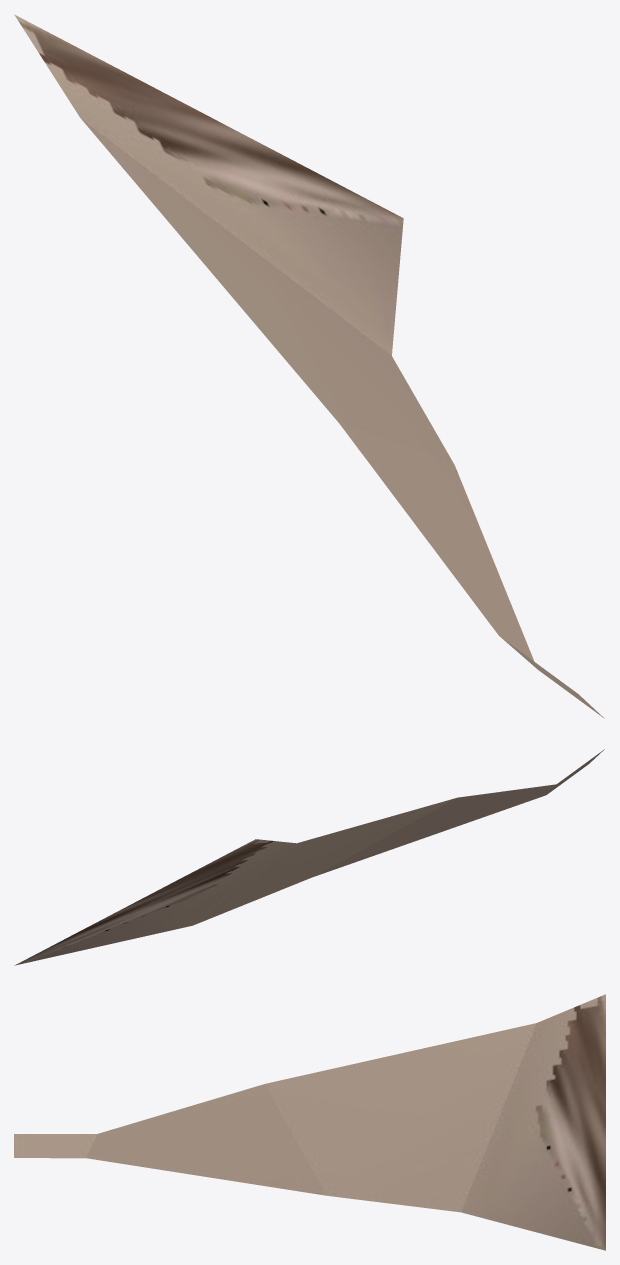
The picture shows the model from 3 angles, top to bottom: view 1: azimuth 30°, elevation 25°; view 2: azimuth 150°, elevation 25°; view 3: azimuth 270°, elevation 25°; orthographic projection. The views are drawn at different scales.
Size of the model in its own units: 0.6677 by 0.4897 by 1.67.
Materials: 1 (1 with a texture image).
